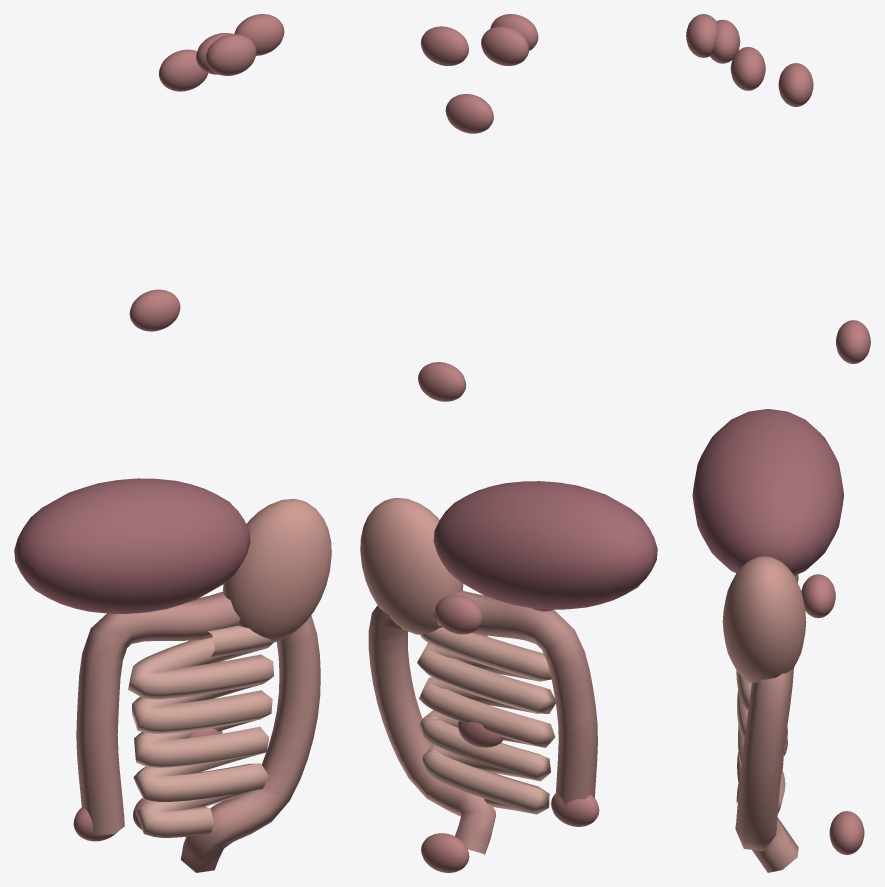
File: digestive-system.glb
3 views of the same model, side by side, from view 1: azimuth 30°, elevation 25°; view 2: azimuth 150°, elevation 25°; view 3: azimuth 270°, elevation 25° (orthographic). The views are drawn at different scales.
Parts seen in each view (by area): view 1: liver-302, intestines-305, intestines-304, stomach-303, dev-marker-esophagus, dev-marker-teeth, dev-marker-pharynx, dev-marker-salivary-glands, dev-marker-appendix; view 2: liver-302, intestines-304, intestines-305, stomach-303, dev-marker-pancreas, dev-marker-pharynx, dev-marker-rectum, dev-marker-esophagus, dev-marker-salivary-glands, dev-marker-tongue, dev-marker-appendix, dev-marker-small-intestine (+1 smaller); view 3: liver-302, stomach-303, intestines-305, dev-marker-pharynx, dev-marker-rectum, dev-marker-salivary-glands, dev-marker-esophagus, dev-marker-pancreas, intestines-304, dev-marker-teeth, dev-marker-tongue.
Boxes of the visible parts, x1,y1,x2,y2 form: liver-302: (14, 478, 250, 613); intestines-305: (76, 591, 320, 872); intestines-304: (128, 625, 273, 837); stomach-303: (223, 499, 331, 642); dev-marker-esophagus: (129, 289, 180, 331); dev-marker-teeth: (205, 34, 256, 75); dev-marker-pharynx: (159, 49, 208, 91); dev-marker-salivary-glands: (234, 14, 284, 55); dev-marker-appendix: (73, 807, 124, 841); liver-302: (433, 481, 657, 609); intestines-304: (417, 627, 555, 814); intestines-305: (368, 590, 597, 854); stomach-303: (360, 498, 463, 634); dev-marker-pancreas: (435, 594, 482, 634); dev-marker-pharynx: (445, 94, 493, 133); dev-marker-rectum: (421, 833, 469, 872); dev-marker-esophagus: (418, 362, 466, 401); dev-marker-salivary-glands: (421, 26, 468, 65); dev-marker-tongue: (481, 26, 529, 65); dev-marker-appendix: (551, 794, 599, 826); dev-marker-small-intestine: (458, 721, 504, 747); liver-302: (692, 409, 843, 575); stomach-303: (722, 556, 806, 683); intestines-305: (735, 574, 798, 872); dev-marker-pharynx: (778, 63, 813, 106); dev-marker-rectum: (829, 811, 864, 854); dev-marker-salivary-glands: (730, 47, 765, 90); dev-marker-esophagus: (836, 320, 870, 363); dev-marker-pancreas: (801, 574, 835, 618); intestines-304: (736, 670, 785, 813); dev-marker-teeth: (686, 14, 716, 57); dev-marker-tongue: (710, 19, 740, 63).
Size of the model in its own units: 1.09 by 2.94 by 0.58.
